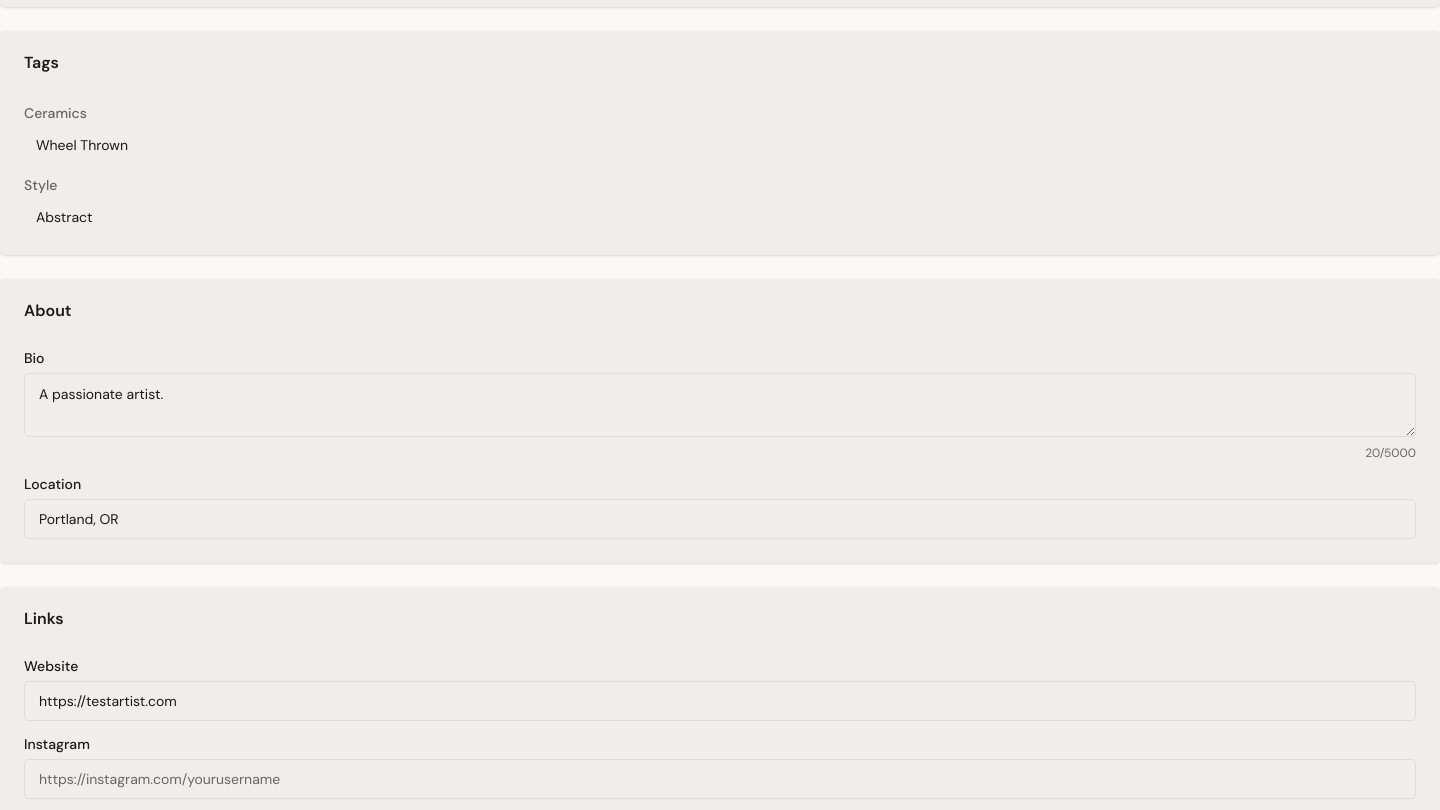
Test case: ProfileForm › submission › should disable save button while submitting
(page scrolled)
Replace the text in the text box with test id "profile-bio" with "Updated bio" at (720, 405), box [24,373,1416,437]
(page scrolled)
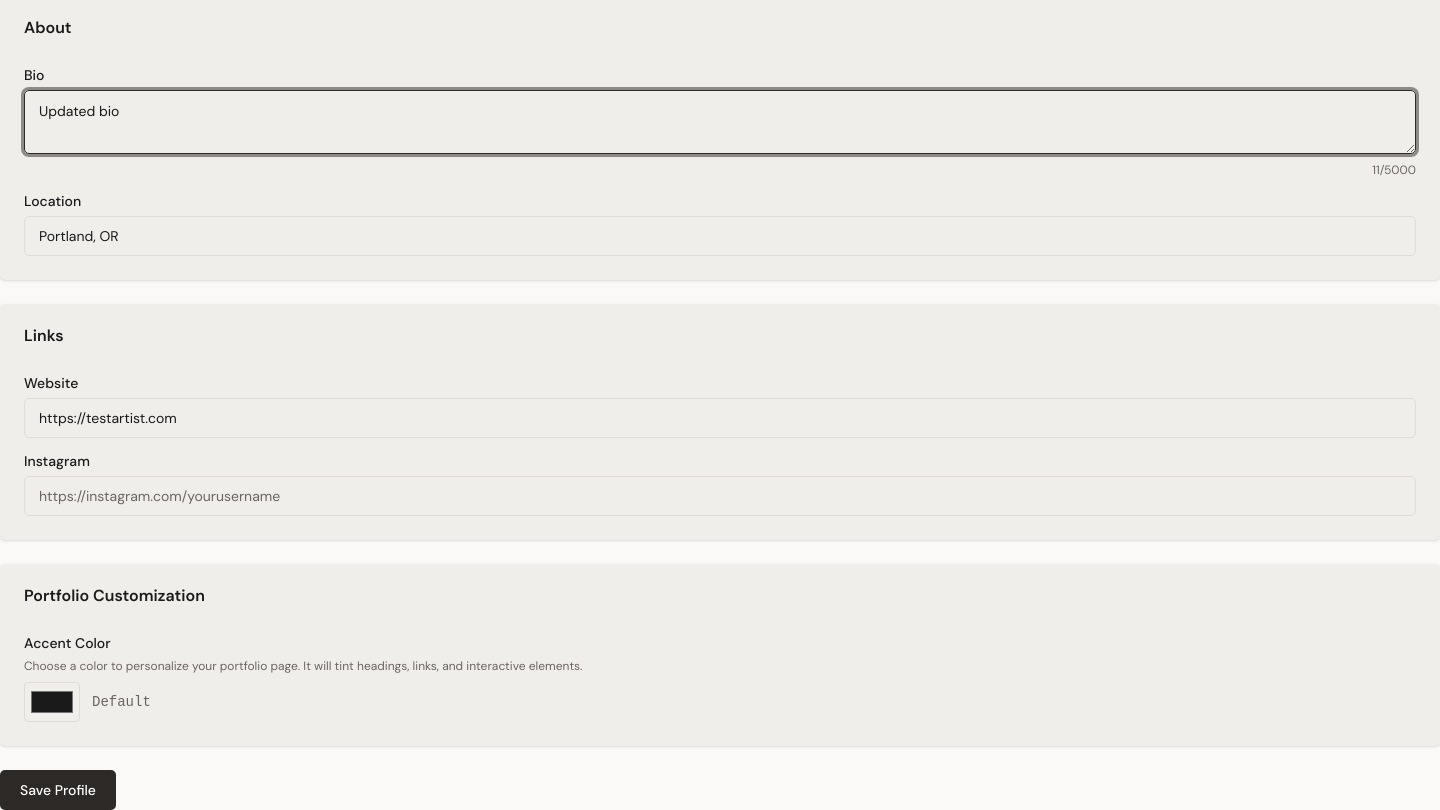
Click the button with test id "profile-save".
click(58, 790)  # box [0,770,116,809]
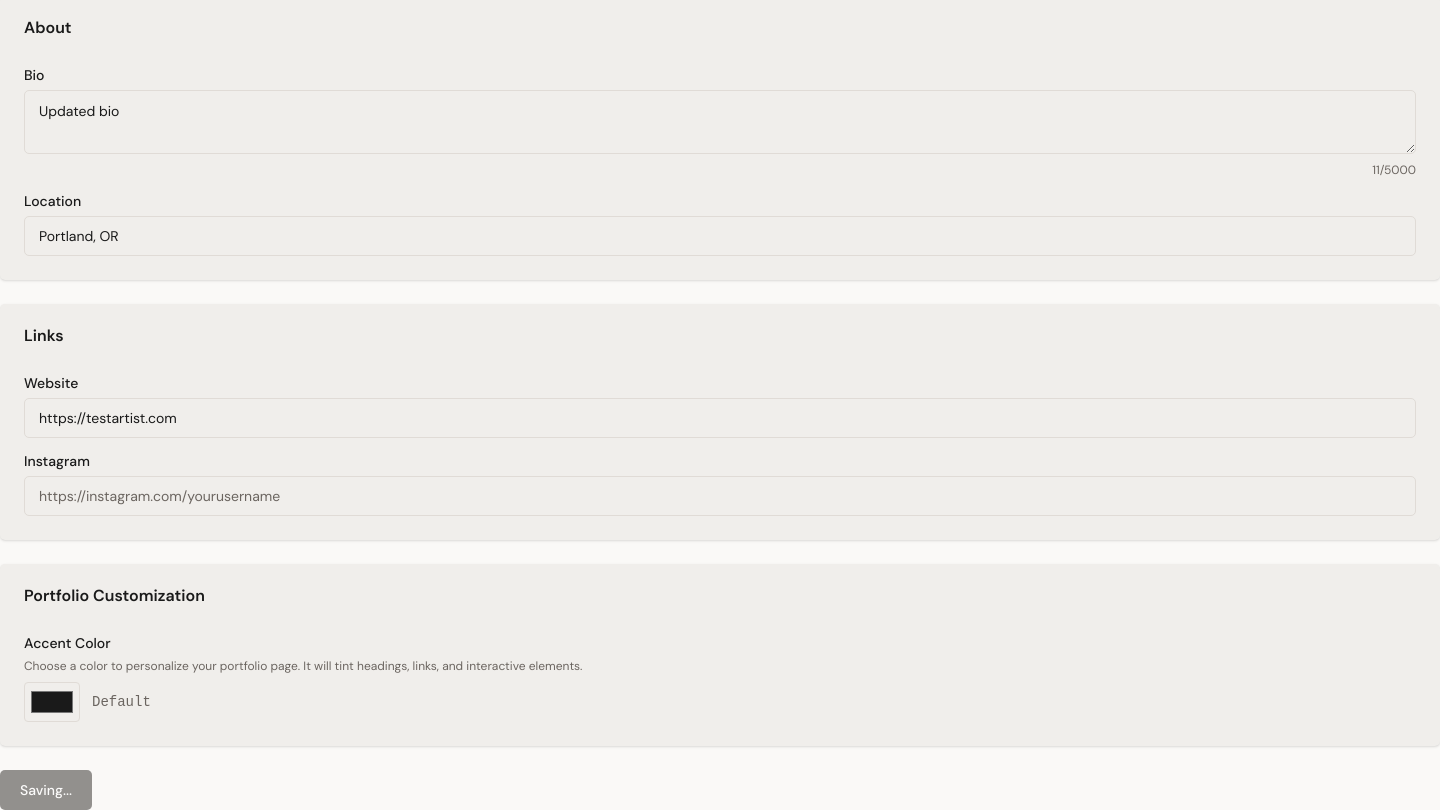
Now the button with test id "profile-save" is disabled, box [0,770,92,809]
